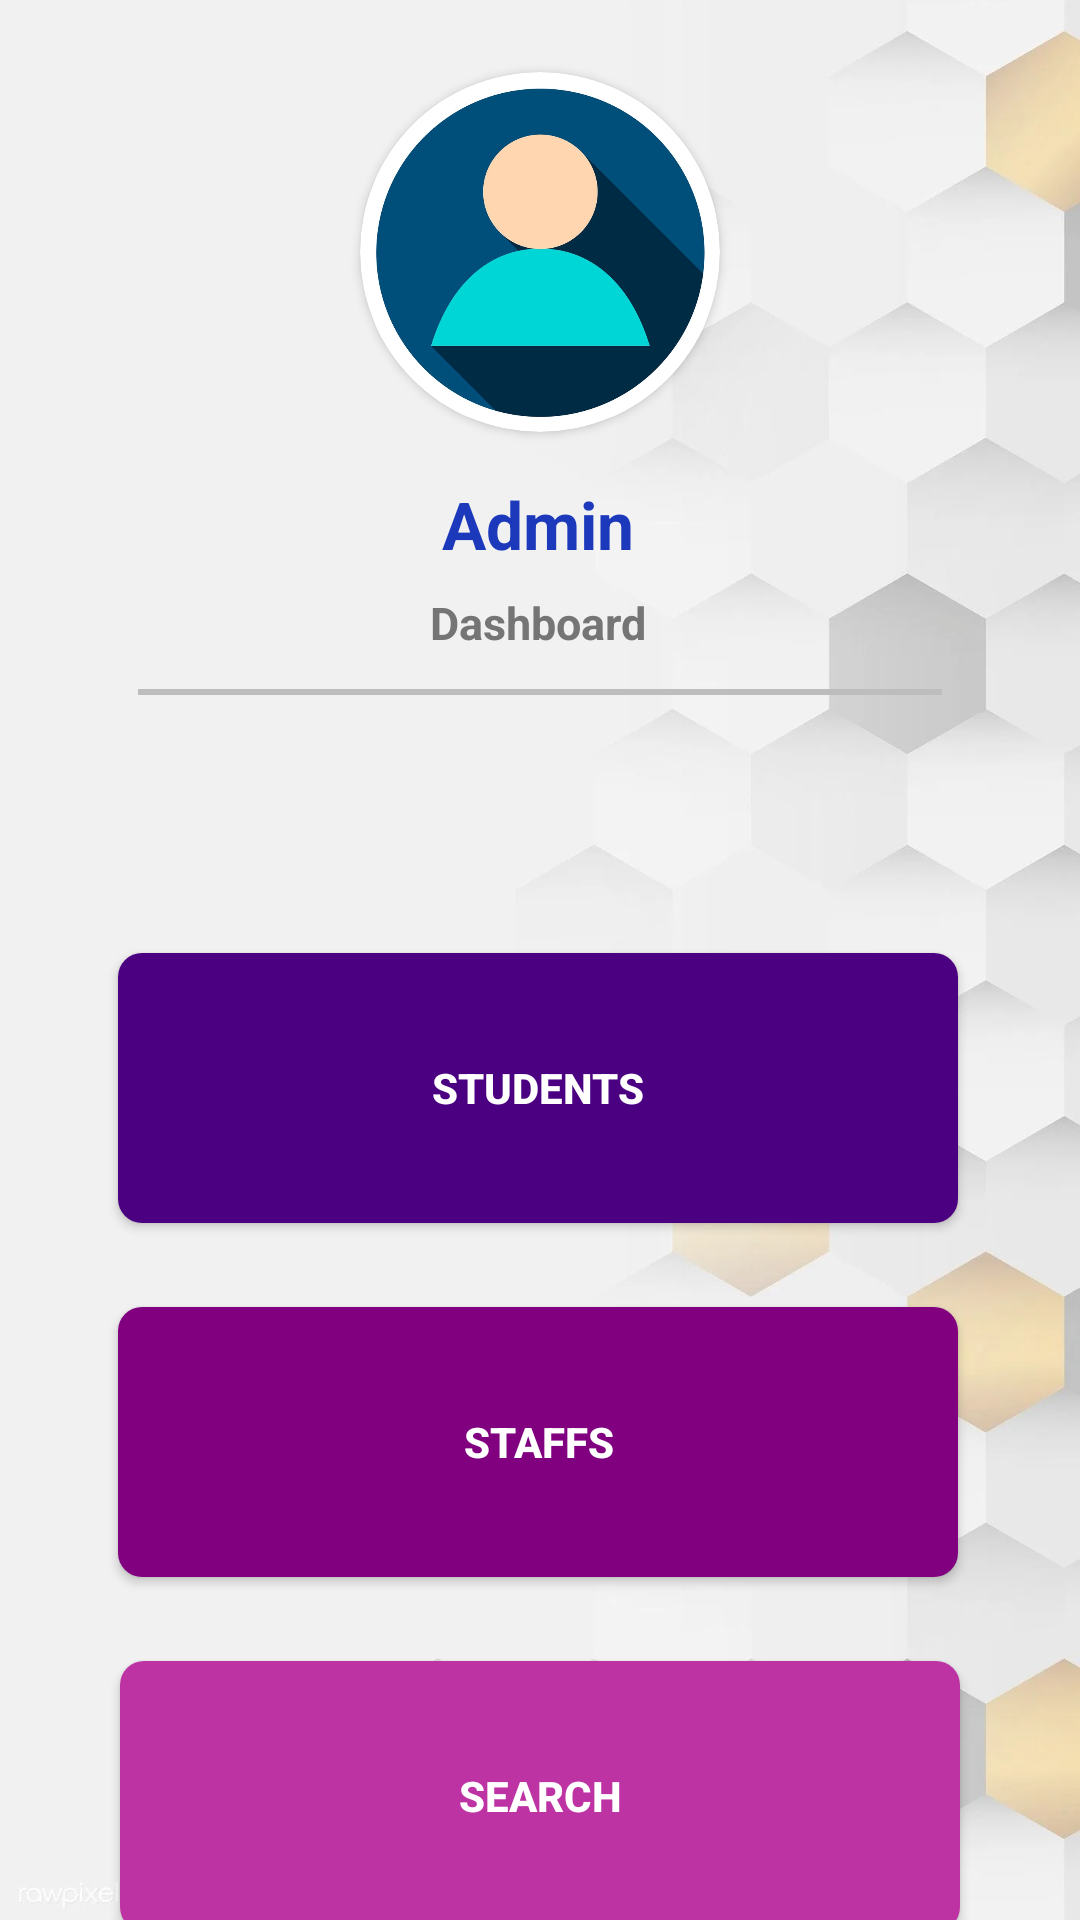

Where to tap for icons on this 1080px x 1920px app screen, as [x,y]:
profie: [545,252]
